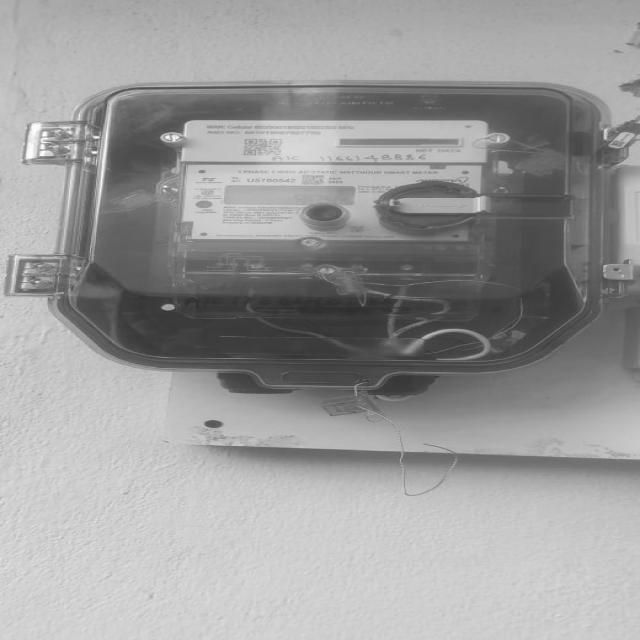meter: (185, 120, 484, 243)
